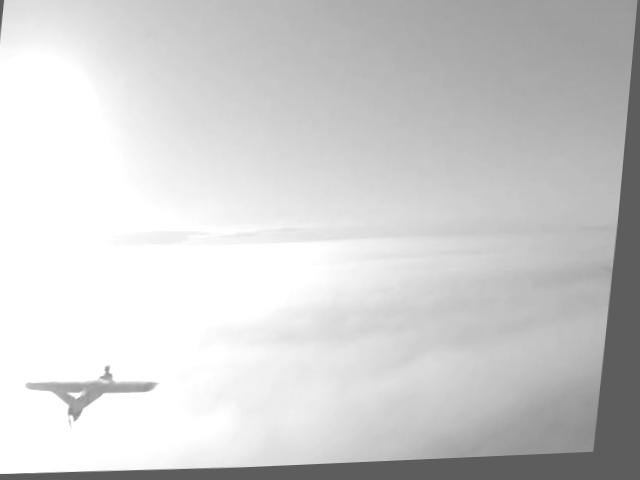hedef: (23, 353, 179, 441)
